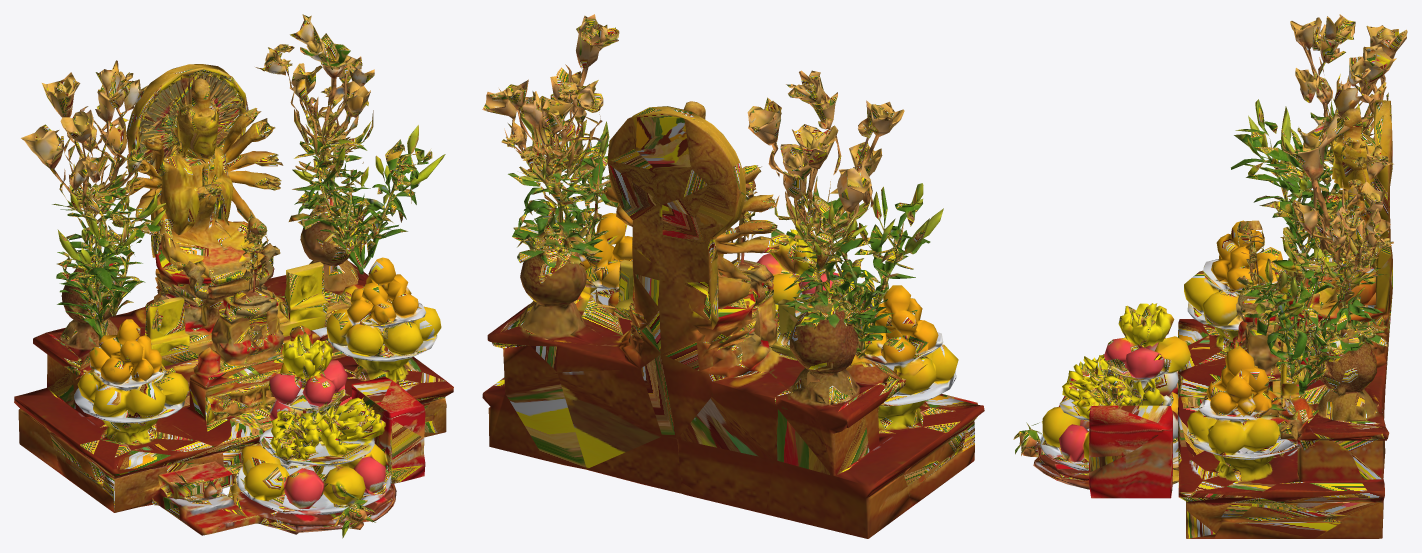
Rendered from tượng quan âm.glb.
3 renders of one model, left to right at view 1: azimuth 30°, elevation 25°; view 2: azimuth 150°, elevation 25°; view 3: azimuth 270°, elevation 25°, orthographic. The views are drawn at different scales.
Size of the model in its own units: 1.81 by 1.77 by 1.58.
Materials: 1 (1 with a texture image).
